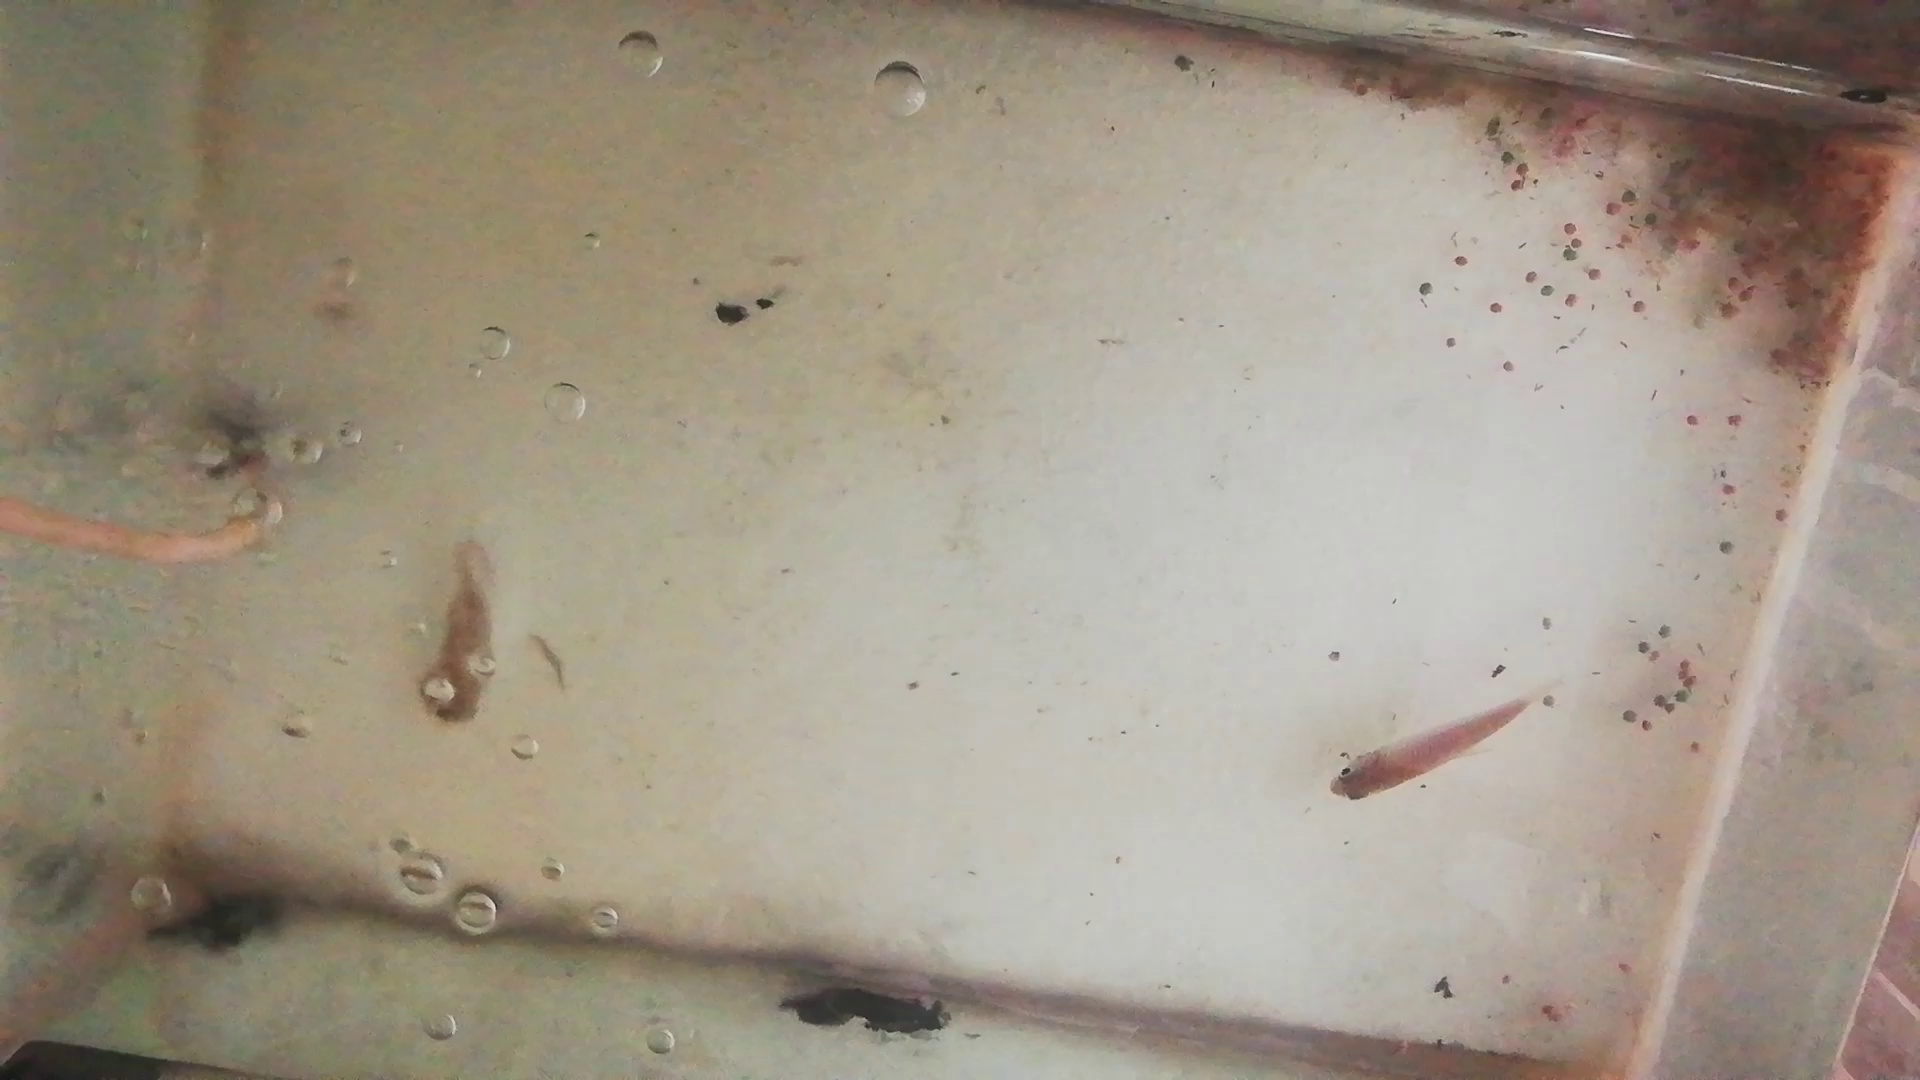fish: (1328, 692, 1524, 803), (429, 531, 496, 738)
